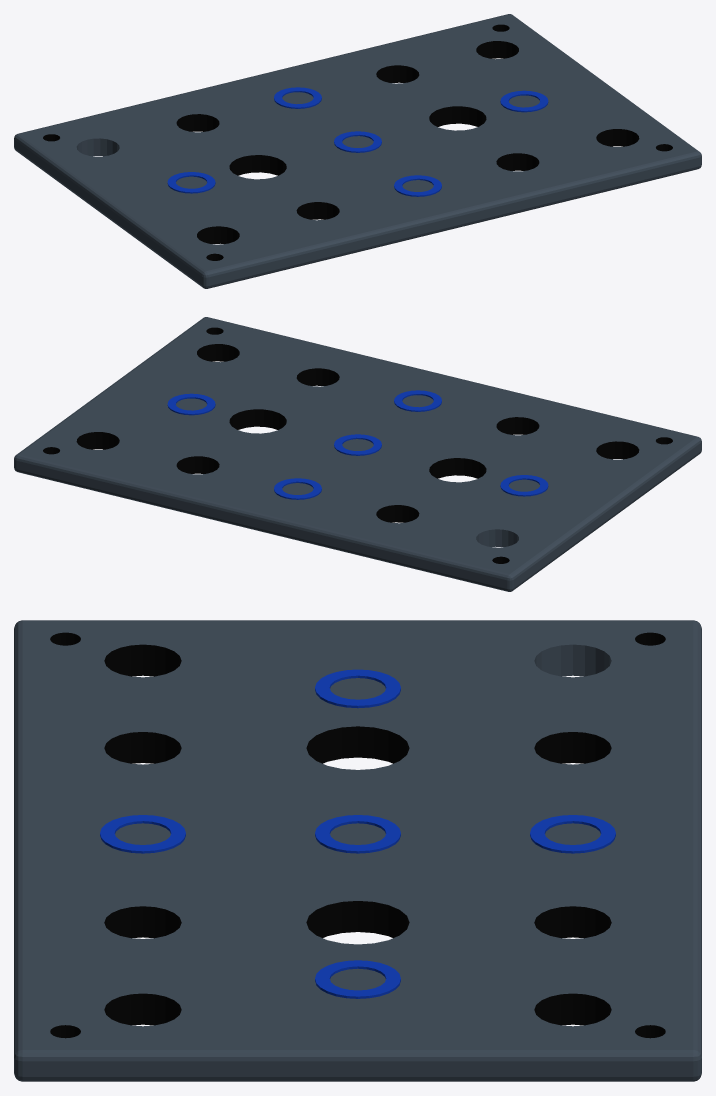
Rendered from chassis_plate.obj.
The picture shows the model from 3 angles, top to bottom: view 1: azimuth 30°, elevation 25°; view 2: azimuth 150°, elevation 25°; view 3: azimuth 270°, elevation 25°; orthographic projection. The views are drawn at different scales.
Visible parts, largest first — view 1: chassis_plate; view 2: chassis_plate; view 3: chassis_plate.
Part boxes in pixels (bbox=[...]): chassis_plate: bbox=[14, 14, 701, 288]; chassis_plate: bbox=[14, 317, 701, 591]; chassis_plate: bbox=[14, 620, 701, 1081].
Size of the model in its own units: 0.12 by 0.0043 by 0.08.
